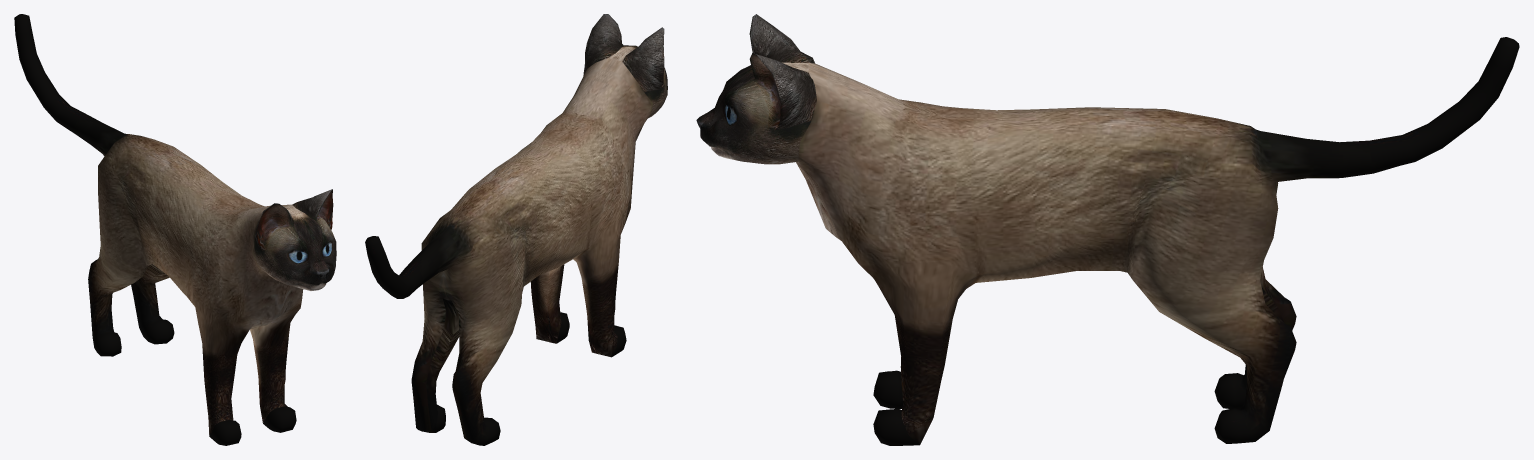
Rendered from siameseCat.obj.
3 renders of one model, left to right at view 1: azimuth 30°, elevation 25°; view 2: azimuth 150°, elevation 25°; view 3: azimuth 270°, elevation 25°, orthographic. The views are drawn at different scales.
Parts seen in each view (by area): view 1: Cat_Cube.001; view 2: Cat_Cube.001; view 3: Cat_Cube.001.
Part boxes in pixels (x1,y1,x2,y2): Cat_Cube.001: (14,14,336,445); Cat_Cube.001: (365,14,667,445); Cat_Cube.001: (696,14,1519,445).
Bounding box in the file's own units: 0.1632 × 0.5176 × 1.
Materials: 1 (1 with a texture image).
